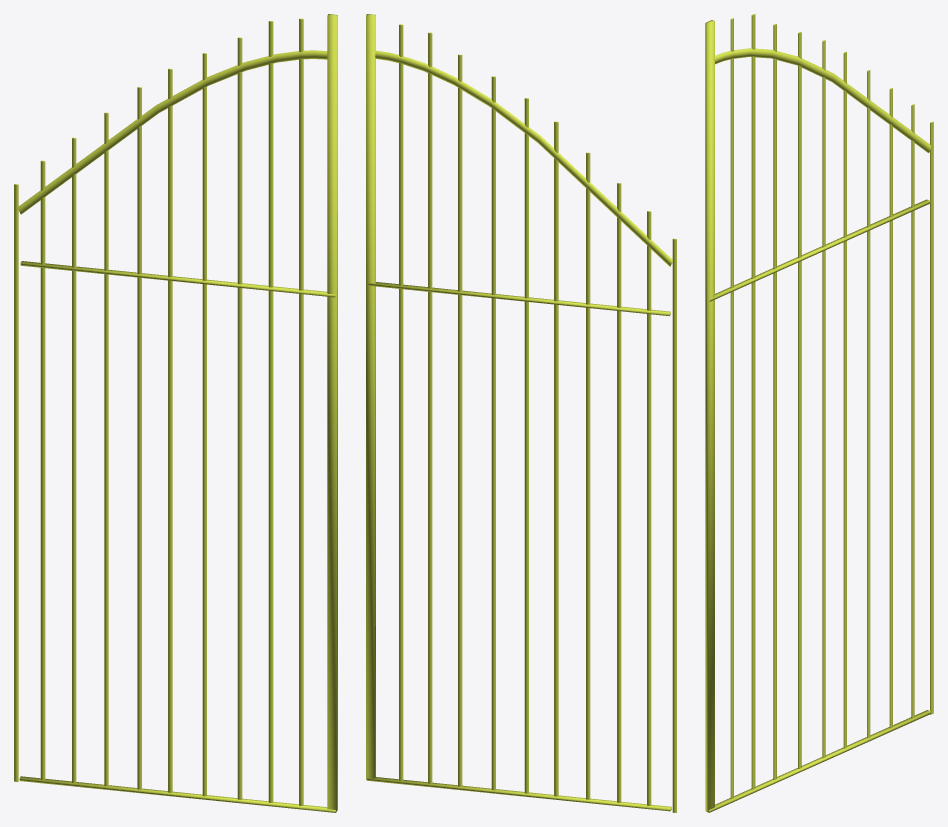
Rendered from puerta2_v.obj.
The picture shows the model from 3 angles, left to right: view 1: azimuth 30°, elevation 25°; view 2: azimuth 210°, elevation 25°; view 3: azimuth 270°, elevation 25°; orthographic projection. The views are drawn at different scales.
Visible parts, largest first — view 1: puerta2_v; view 2: puerta2_v; view 3: puerta2_v.
Part boxes in pixels (x1=…): puerta2_v: x1=14, y1=14, x2=337, y2=812; puerta2_v: x1=366, y1=14, x2=676, y2=812; puerta2_v: x1=705, y1=14, x2=933, y2=812.
Bounding box in the file's own units: 7.75 × 28.09 × 7.34.
